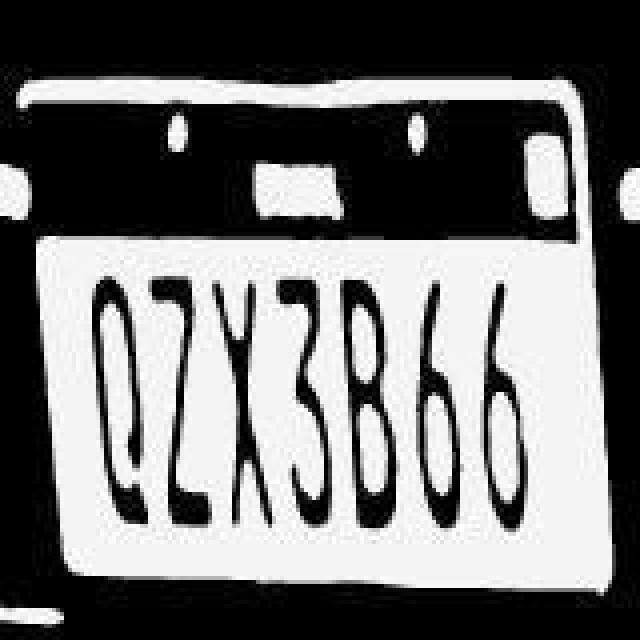3: (282, 274, 334, 534)
6: (470, 276, 538, 540), (404, 276, 468, 540)
B: (336, 272, 400, 536)
Q: (80, 270, 144, 530)
X: (212, 276, 276, 532)
Z: (150, 268, 210, 532)
